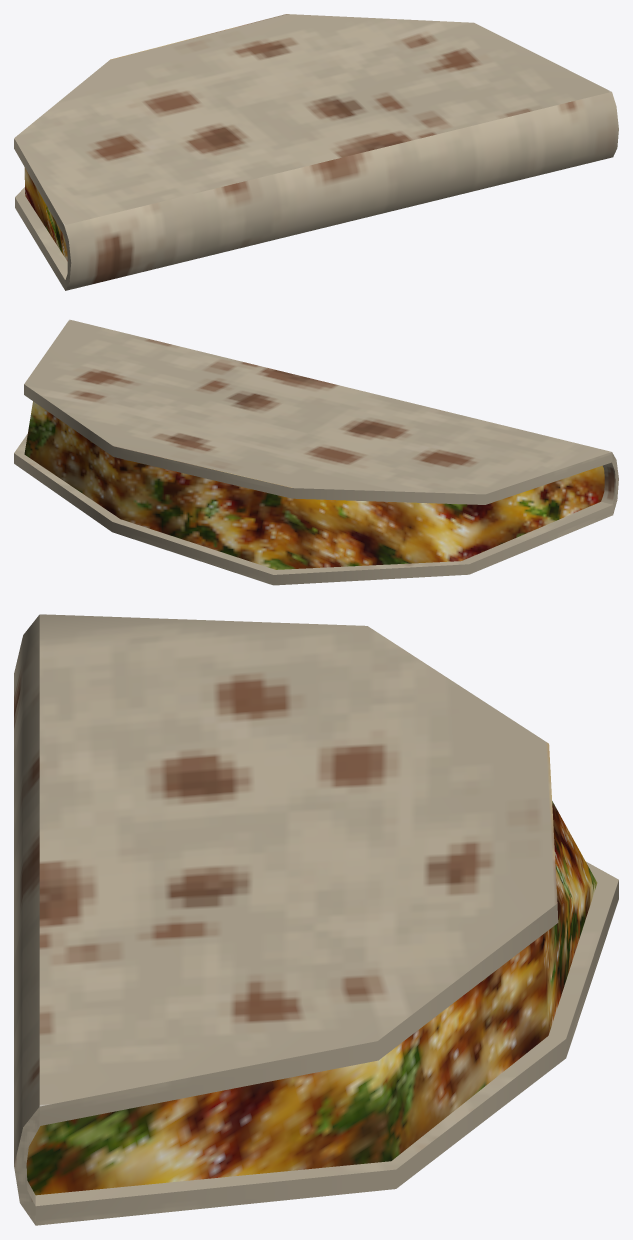
The model's file is VFX_Quesadilla.fbx.
3 views of the same model, one above another, from view 1: azimuth 30°, elevation 25°; view 2: azimuth 150°, elevation 25°; view 3: azimuth 270°, elevation 25° (orthographic). The views are drawn at different scales.
Visible parts, largest first — view 1: Quesadilla; view 2: Quesadilla; view 3: Quesadilla.
Part boxes in pixels (x1=…): Quesadilla: x1=14, y1=14, x2=618, y2=290; Quesadilla: x1=14, y1=319, x2=618, y2=585; Quesadilla: x1=14, y1=614, x2=618, y2=1225.
Size of the model in its own units: 0.1564 by 0.0231 by 0.0812.
